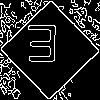E: (25, 25, 59, 71)
